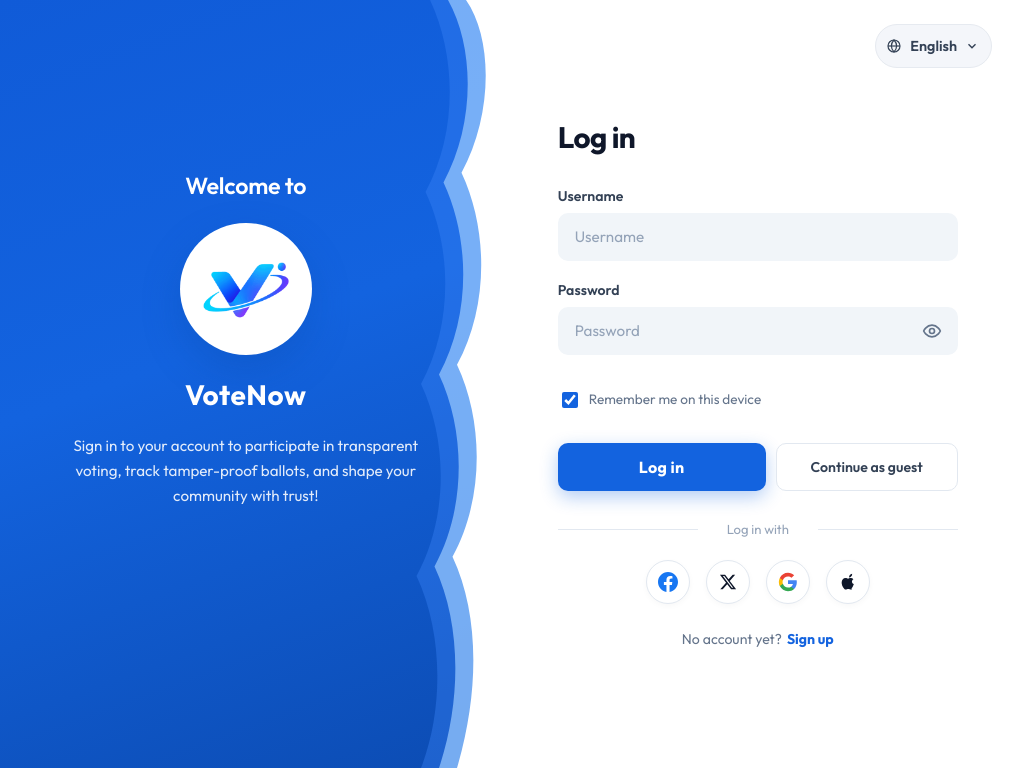
Password Visibility Toggle › 点击社交登录按钮显示 Coming Soon 弹窗，点击 Got It 或关闭按钮可关闭
Note: Click Google social icon button
Click the button titled "Google" at [788, 582], box top-left (766, 560), bottom-right (810, 604)
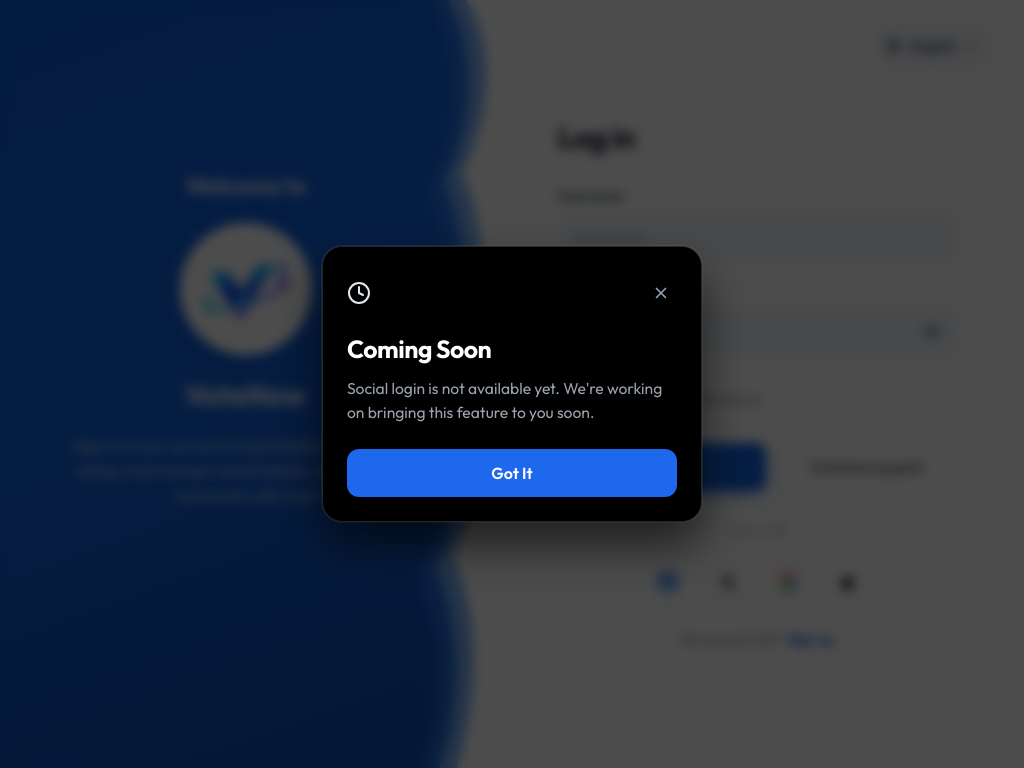
Check: the dialog is shown
Check: the heading "Coming Soon" is shown, box top-left (347, 333), bottom-right (491, 364)
Check: the text "Social login is not available yet. We're working on bringing this feature to you soon." is shown, box top-left (347, 378), bottom-right (662, 422)
Note: Click "Got It" button to close
Click the button "Got It" at [512, 473], box top-left (347, 449), bottom-right (677, 497)
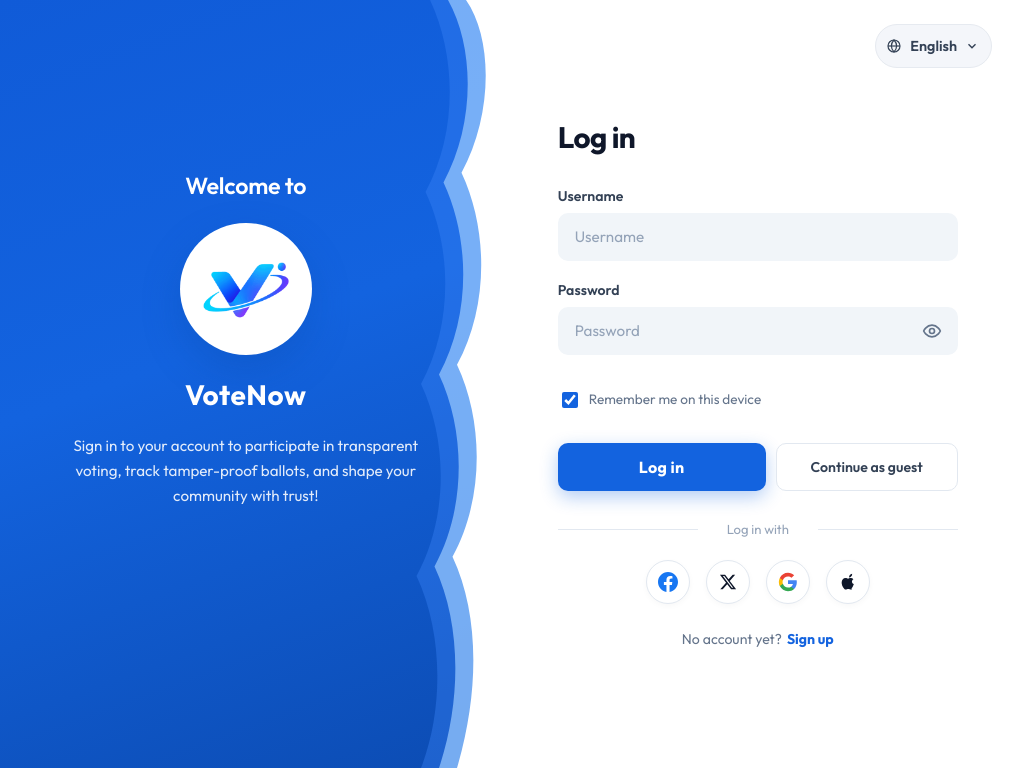
Check: the dialog is gone
